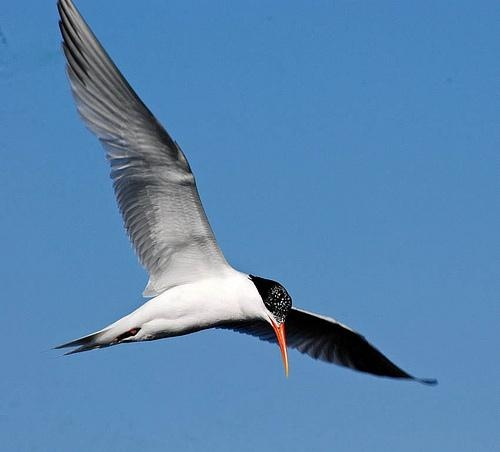bird: (39, 1, 440, 391)
